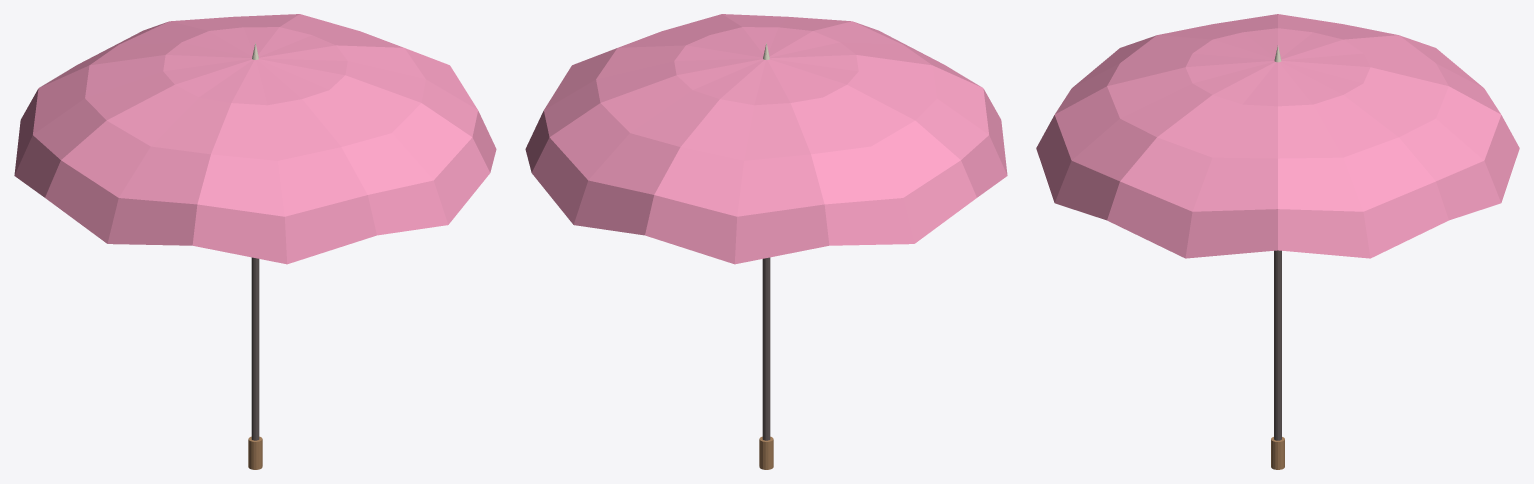
Rendered from umbrella.glb.
The picture shows the model from 3 angles, left to right: view 1: azimuth 30°, elevation 25°; view 2: azimuth 150°, elevation 25°; view 3: azimuth 270°, elevation 25°; orthographic projection.
Visible parts, largest first — view 1: umbrella; view 2: umbrella; view 3: umbrella.
Part boxes in pixels (x1,y1,x2,y2): umbrella: (14,14,496,469); umbrella: (525,14,1007,469); umbrella: (1036,14,1519,469).
Bounding box in the file's own units: 1.1 × 1.06 × 1.1.
